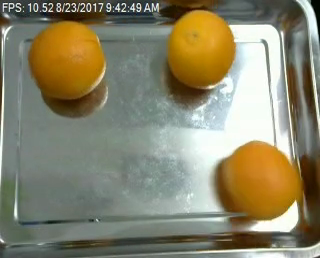Orange: (220, 138, 304, 220), (30, 19, 106, 98), (166, 7, 236, 88)
